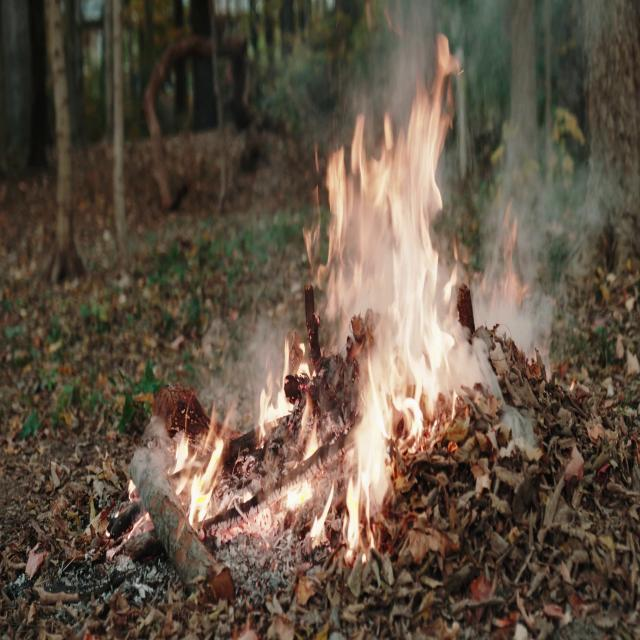Fire: (259, 66, 486, 561), (164, 412, 236, 537)
Smoke: (476, 48, 608, 376)
